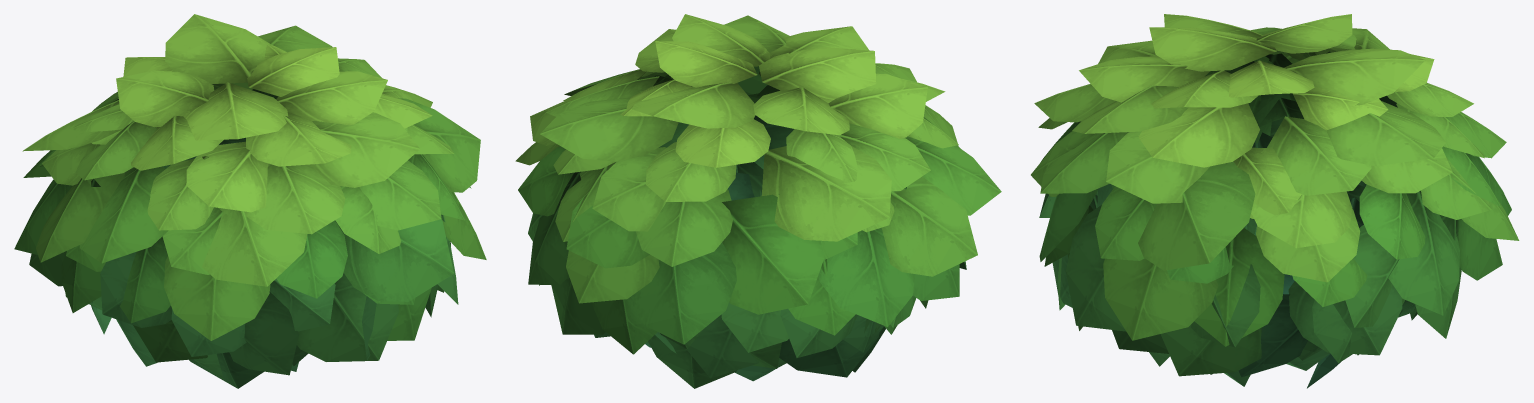
The model's file is petalbush_v2.glb.
3 renders of one model, left to right at view 1: azimuth 30°, elevation 25°; view 2: azimuth 150°, elevation 25°; view 3: azimuth 270°, elevation 25°, orthographic. The views are drawn at different scales.
Visible parts, largest first — view 1: petalbush_v2_leaves_LOD0; view 2: petalbush_v2_leaves_LOD0; view 3: petalbush_v2_leaves_LOD0.
Boxes of the visible parts, x1,y1,x2,y2 form: petalbush_v2_leaves_LOD0: (14,14,486,388); petalbush_v2_leaves_LOD0: (515,14,1001,388); petalbush_v2_leaves_LOD0: (1031,14,1519,388).
Size of what is drawn, in the model's own units: 1.29 by 0.8389 by 1.21.
Materials: 1 (1 with a texture image).
